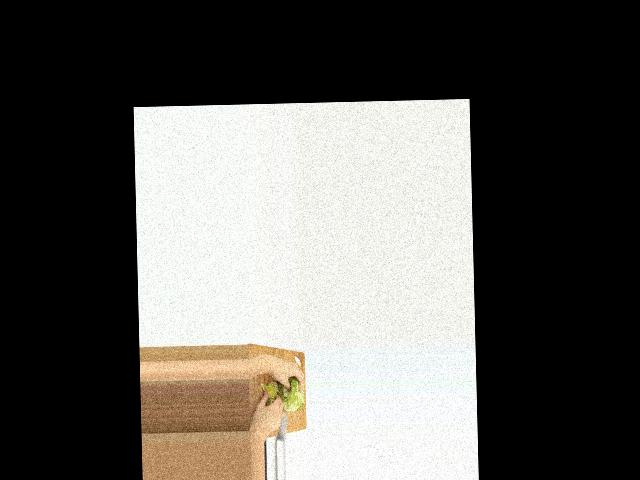lettuce: (279, 378, 303, 412)
